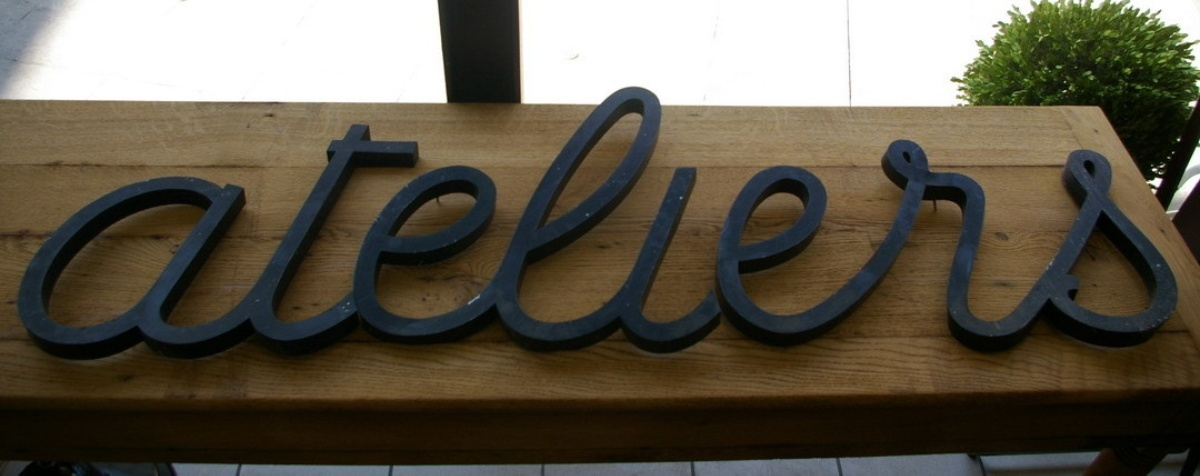text: (49, 75, 64, 365), (65, 75, 80, 365), (81, 75, 96, 365), (97, 75, 112, 365), (113, 75, 128, 365), (129, 75, 144, 365), (145, 75, 160, 365), (161, 75, 176, 365), (177, 75, 192, 365), (193, 75, 208, 365), (209, 75, 224, 365), (225, 75, 240, 365), (241, 75, 256, 365), (257, 75, 272, 365), (273, 75, 288, 365), (289, 75, 304, 365), (305, 75, 320, 365), (321, 75, 336, 365), (337, 75, 352, 365), (353, 75, 368, 365), (369, 75, 384, 365), (385, 75, 400, 365), (401, 75, 416, 365), (417, 75, 432, 365), (433, 75, 448, 365), (449, 75, 464, 365), (465, 75, 480, 365), (481, 75, 496, 365), (497, 75, 512, 365), (513, 75, 528, 365), (529, 75, 544, 365), (545, 75, 560, 365), (561, 75, 576, 365), (577, 75, 592, 365), (593, 75, 608, 365), (609, 75, 624, 365), (625, 75, 640, 365), (641, 75, 656, 365), (657, 75, 672, 365), (673, 75, 688, 365), (689, 75, 704, 365), (705, 75, 720, 365), (721, 75, 736, 365), (737, 75, 752, 365), (753, 75, 768, 365), (769, 75, 784, 365), (785, 75, 800, 365), (801, 75, 816, 365), (817, 75, 832, 365), (833, 75, 848, 365), (849, 75, 864, 365), (865, 75, 880, 365), (881, 75, 896, 365), (897, 75, 912, 365), (913, 75, 928, 365), (929, 75, 944, 365), (945, 75, 960, 365), (961, 75, 976, 365), (977, 75, 992, 365), (993, 75, 1008, 365), (1009, 75, 1024, 365), (1025, 75, 1040, 365), (1041, 75, 1056, 365), (1057, 75, 1072, 365), (1073, 75, 1088, 365), (1089, 75, 1104, 365), (1105, 75, 1120, 365), (1121, 75, 1136, 365), (1137, 75, 1152, 365), (1153, 75, 1168, 365), (1169, 75, 1184, 365), (39, 75, 48, 365), (1185, 75, 1192, 365)
